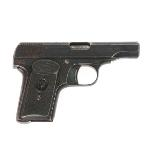Pistol: (12, 41, 140, 125)
